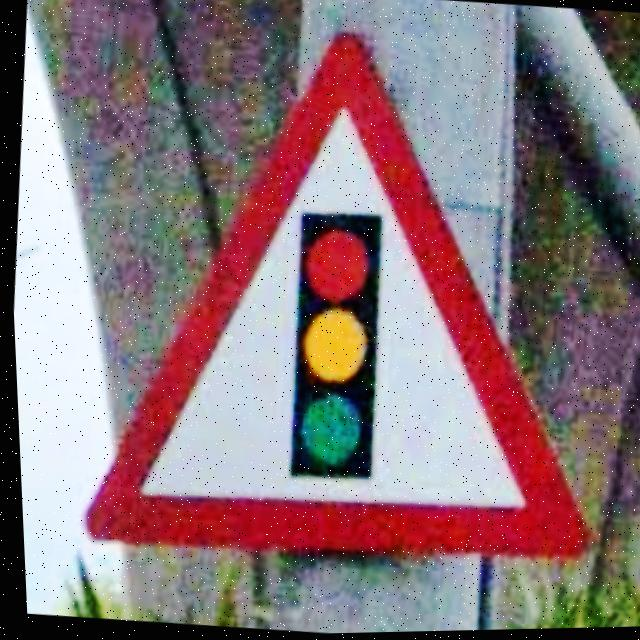signalahead: (79, 36, 588, 564)
